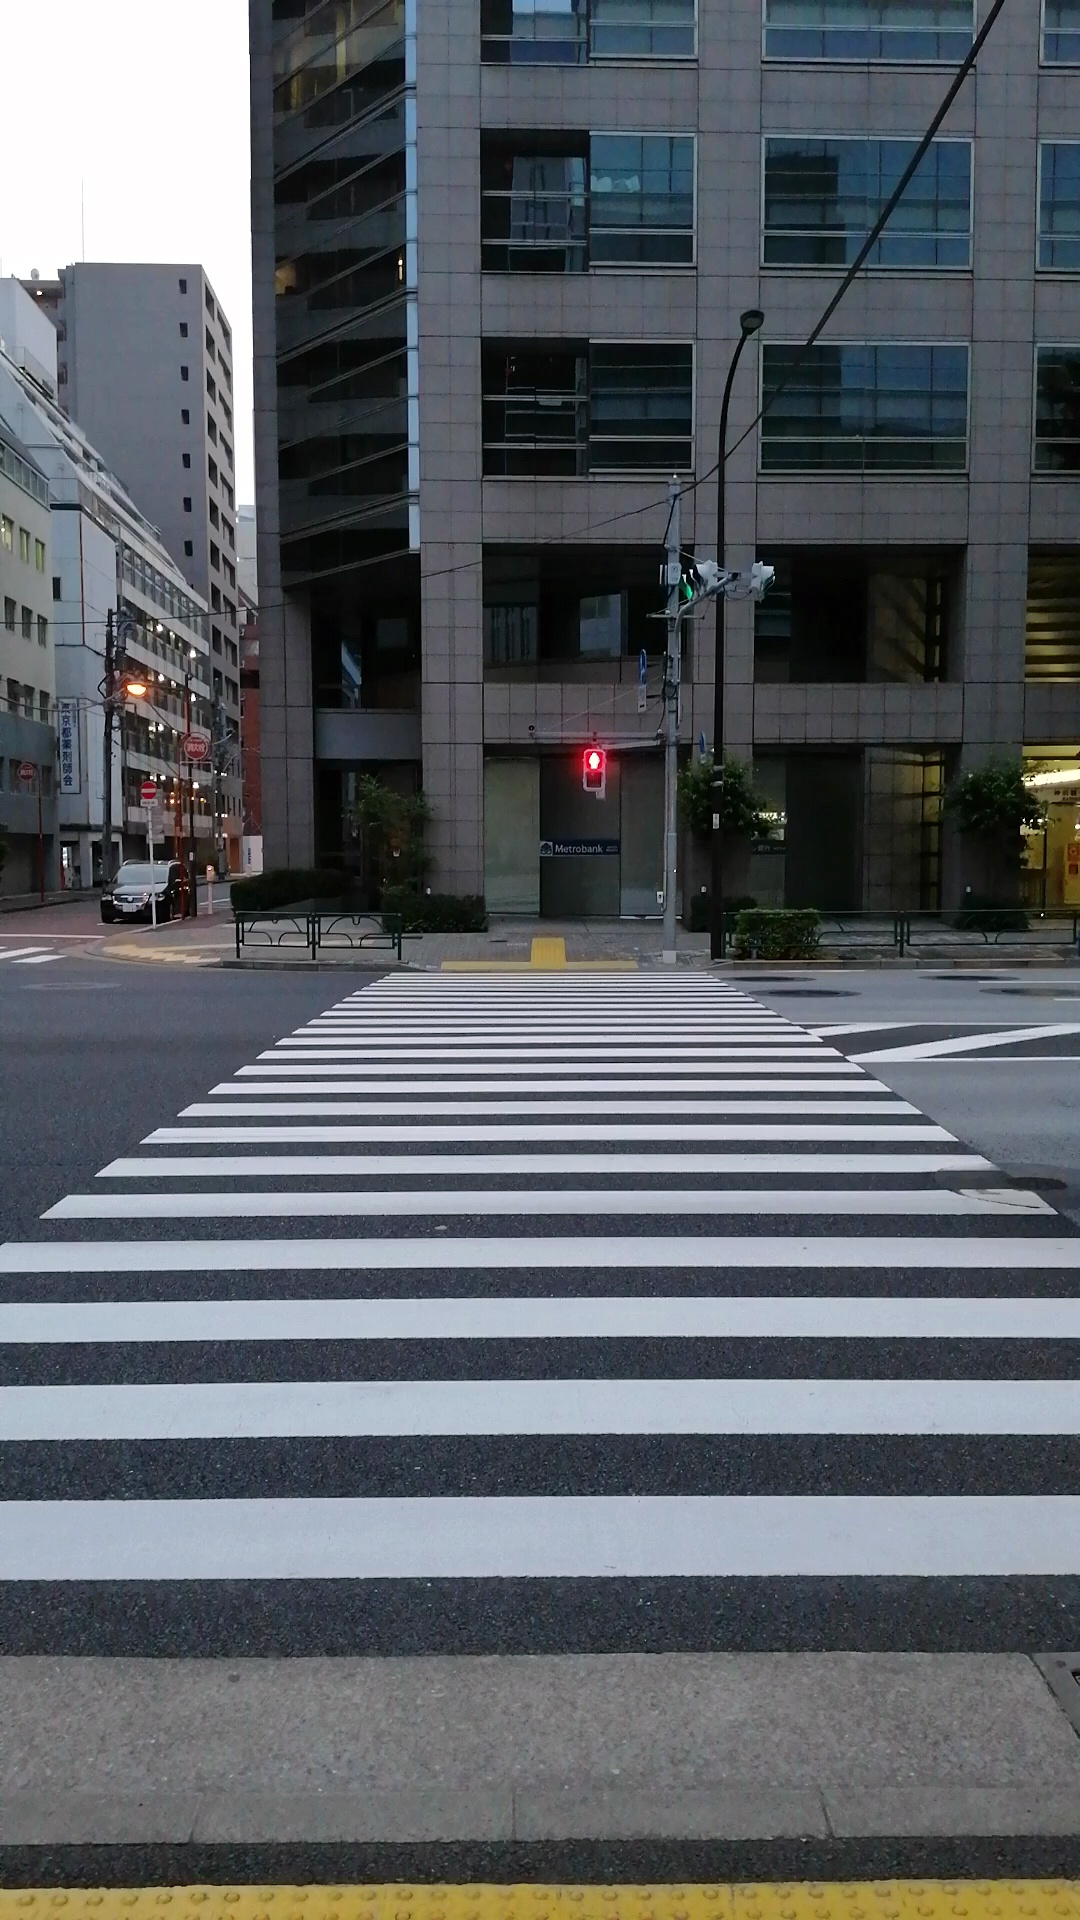red: (582, 746, 607, 790)
